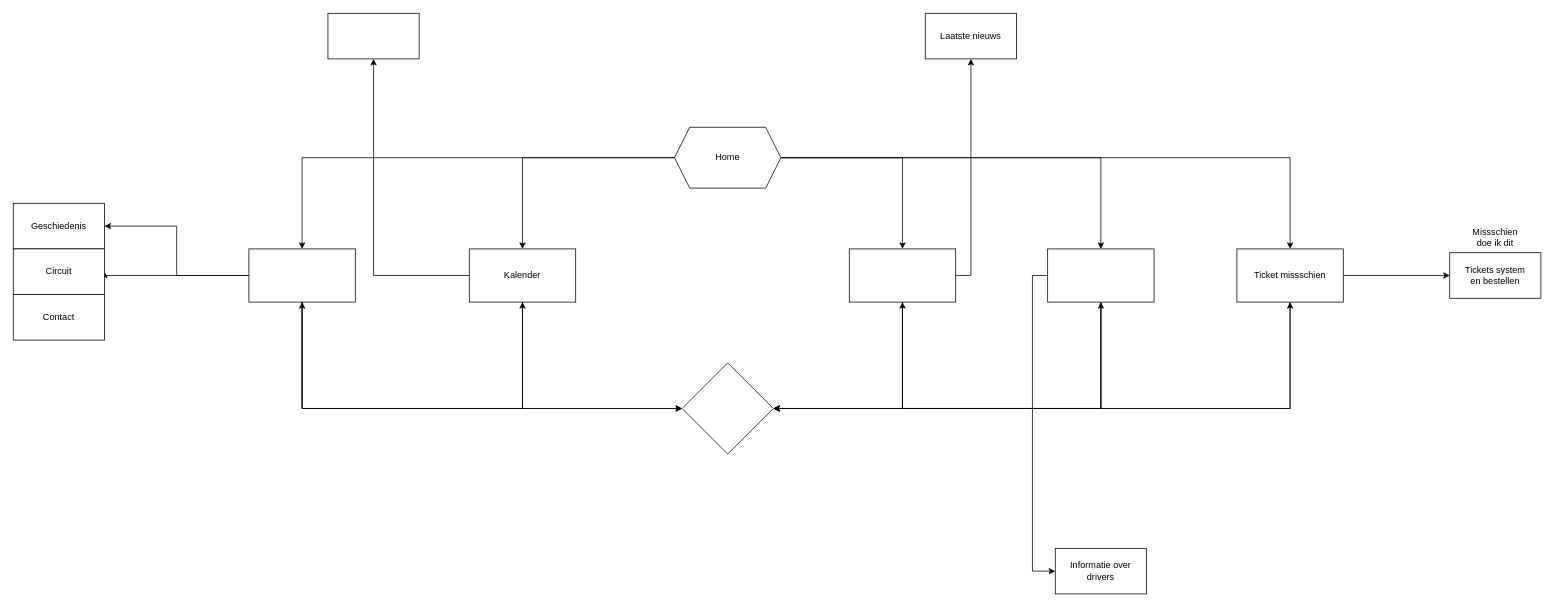
Some shapes in this 1554 by 607 pixel diagram are drawn without their labels. The box of each missing label's shape, as (x1, y1, x2, y2) in pixels:
Dag en tijden: (327, 13, 419, 59)
Drivers: (1047, 248, 1154, 302)
Knop terug naar alle pagina'': (681, 362, 773, 454)
Nieuws: (849, 248, 956, 302)
Over ons: (248, 248, 355, 302)
